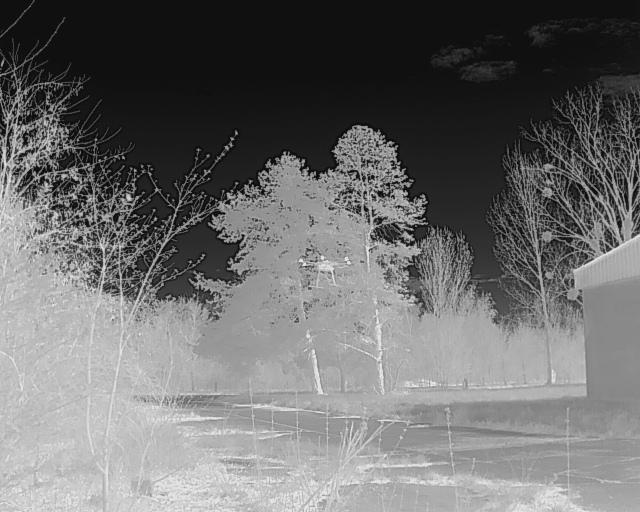drone: (282, 240, 347, 295)
